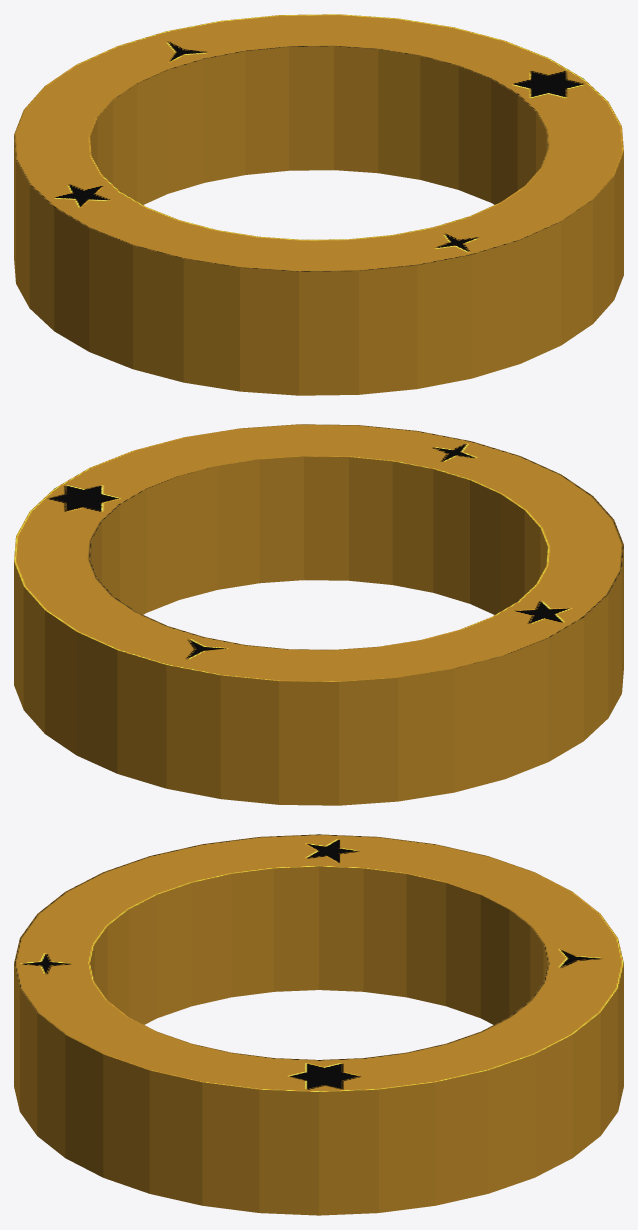
File: InnerPiece.fbx
3 renders of one model, top to bottom at view 1: azimuth 30°, elevation 25°; view 2: azimuth 150°, elevation 25°; view 3: azimuth 270°, elevation 25°, orthographic.
Parts seen in each view (by area): view 1: RingInnerPiece; view 2: RingInnerPiece; view 3: RingInnerPiece.
Part boxes in pixels (bbox=[...]): RingInnerPiece: bbox=[14, 14, 623, 395]; RingInnerPiece: bbox=[14, 424, 623, 805]; RingInnerPiece: bbox=[14, 834, 623, 1215].
Size of the model in its own units: 112 by 25 by 112.
